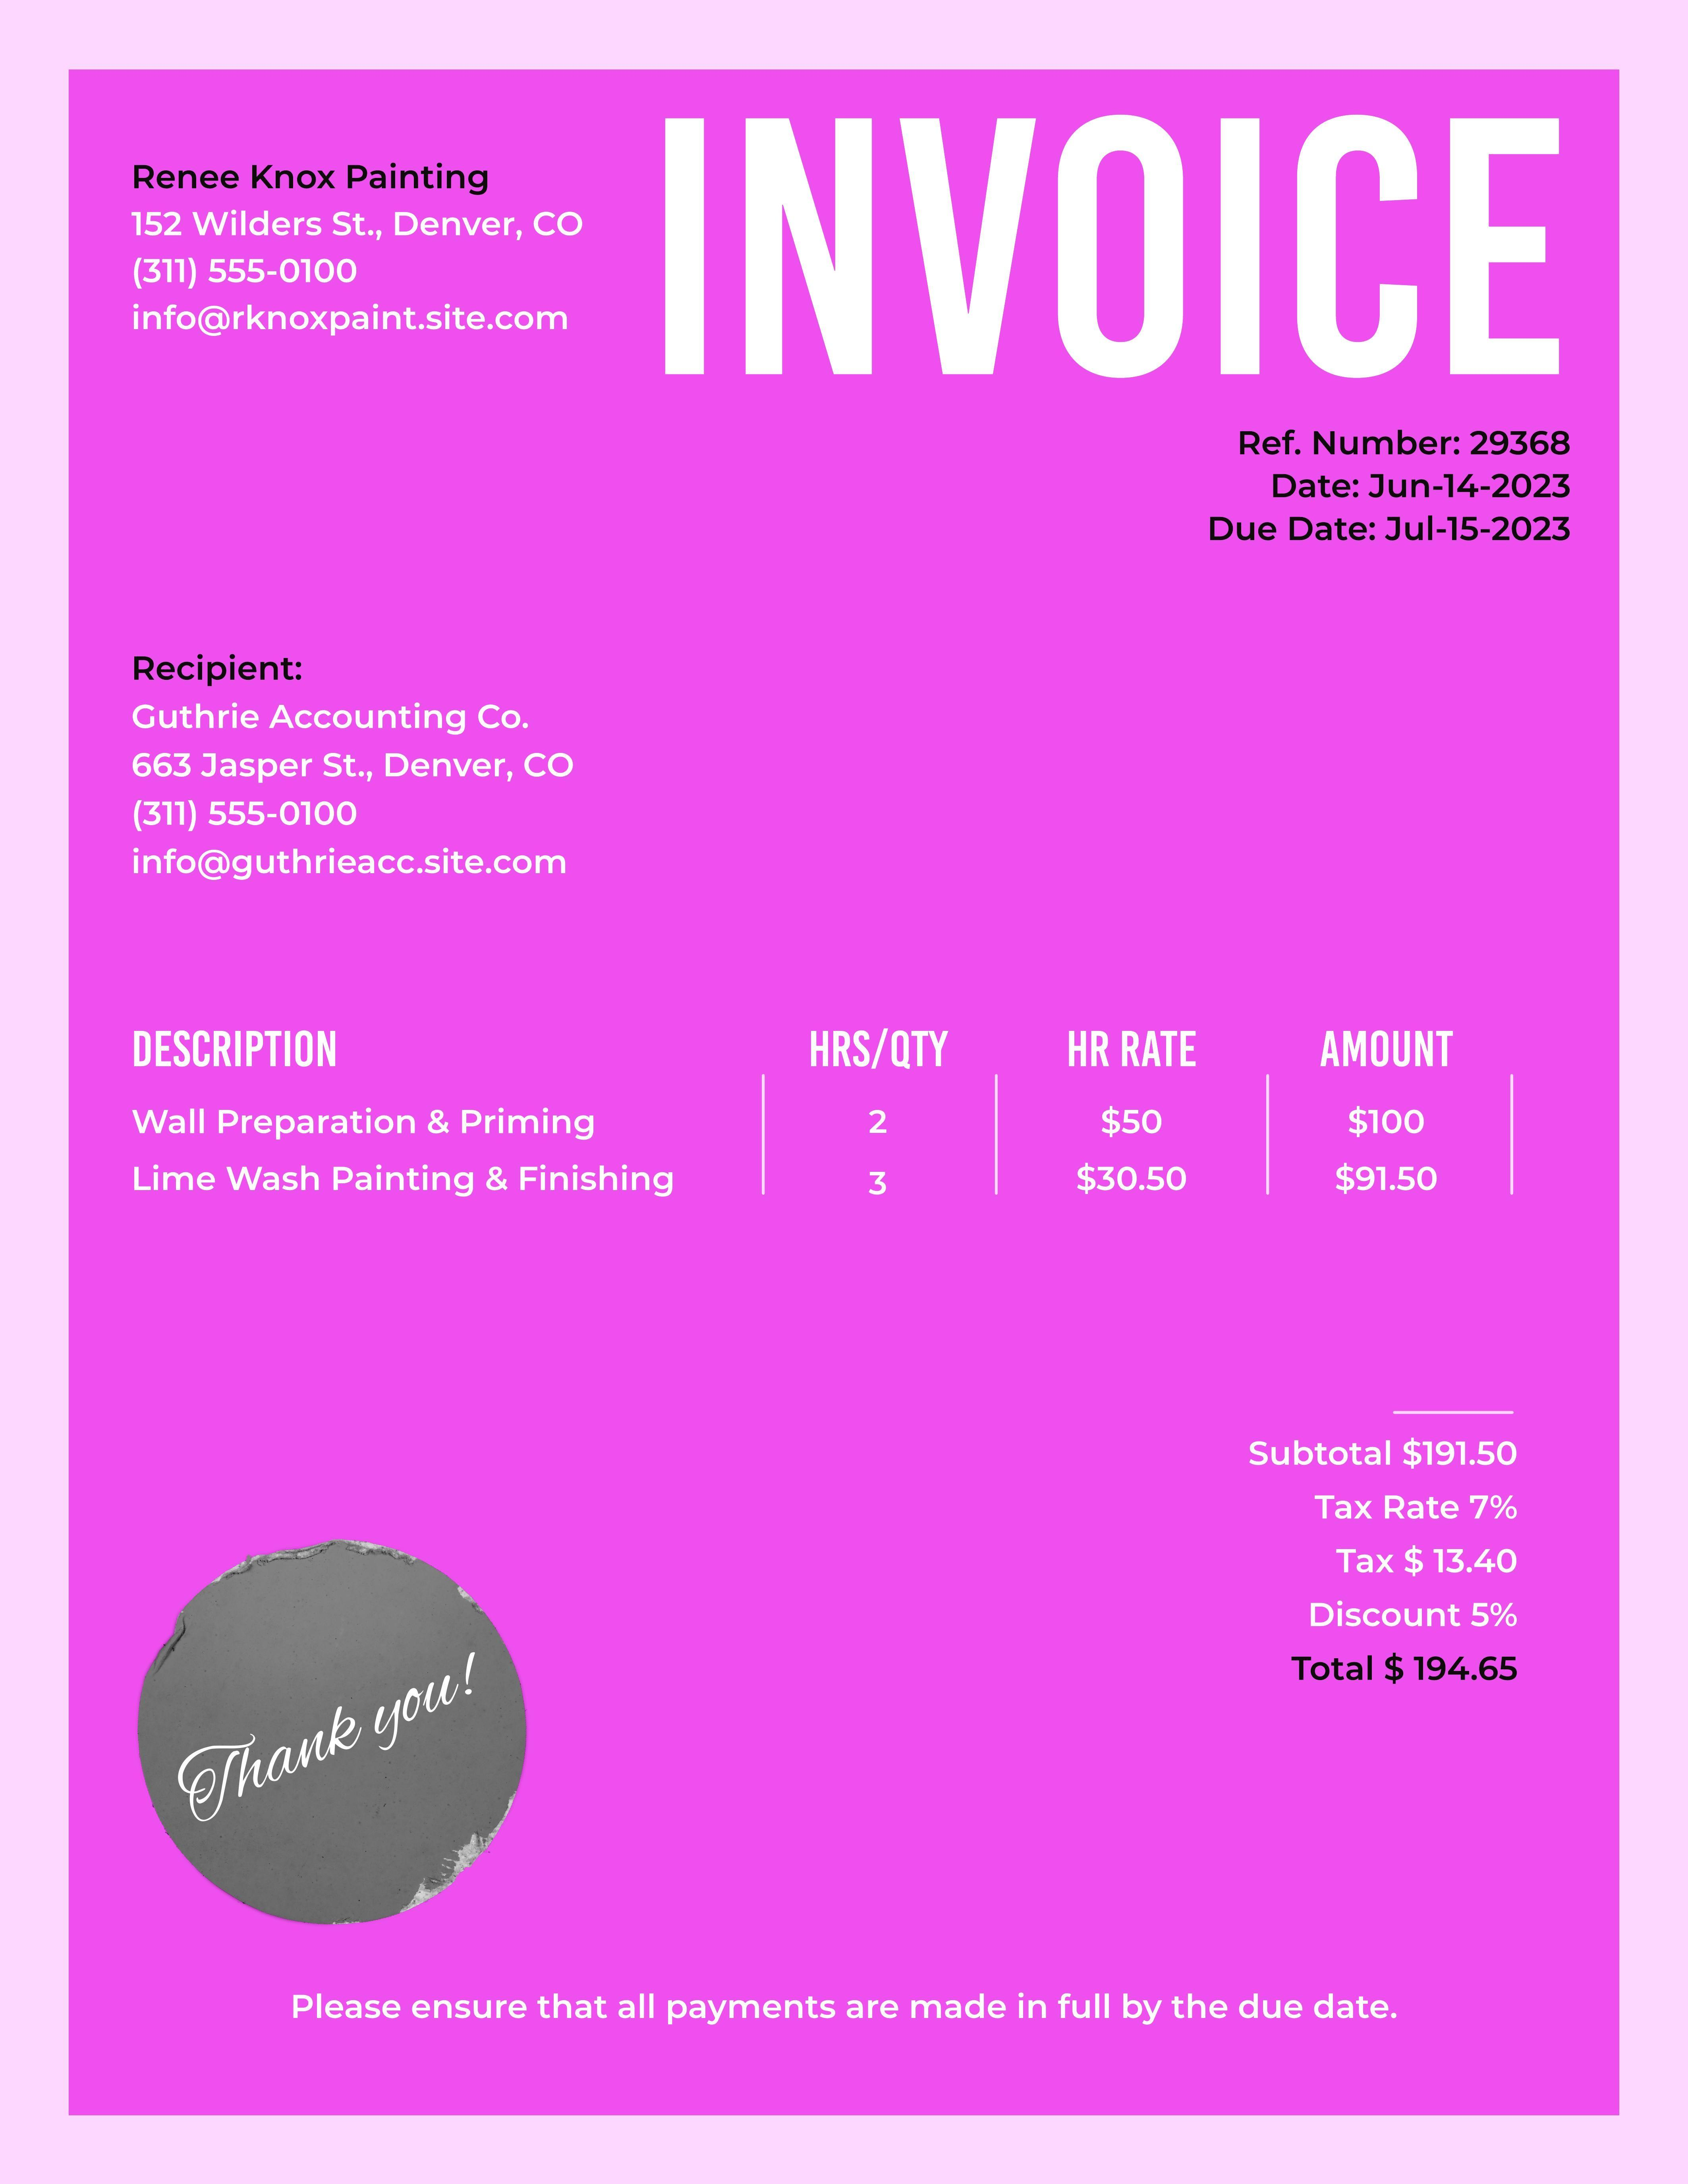ROI: (110, 998, 1536, 1228), (121, 652, 605, 901), (94, 144, 598, 347), (1239, 1424, 1534, 1695), (268, 1980, 1420, 2037), (1183, 399, 1575, 548)
